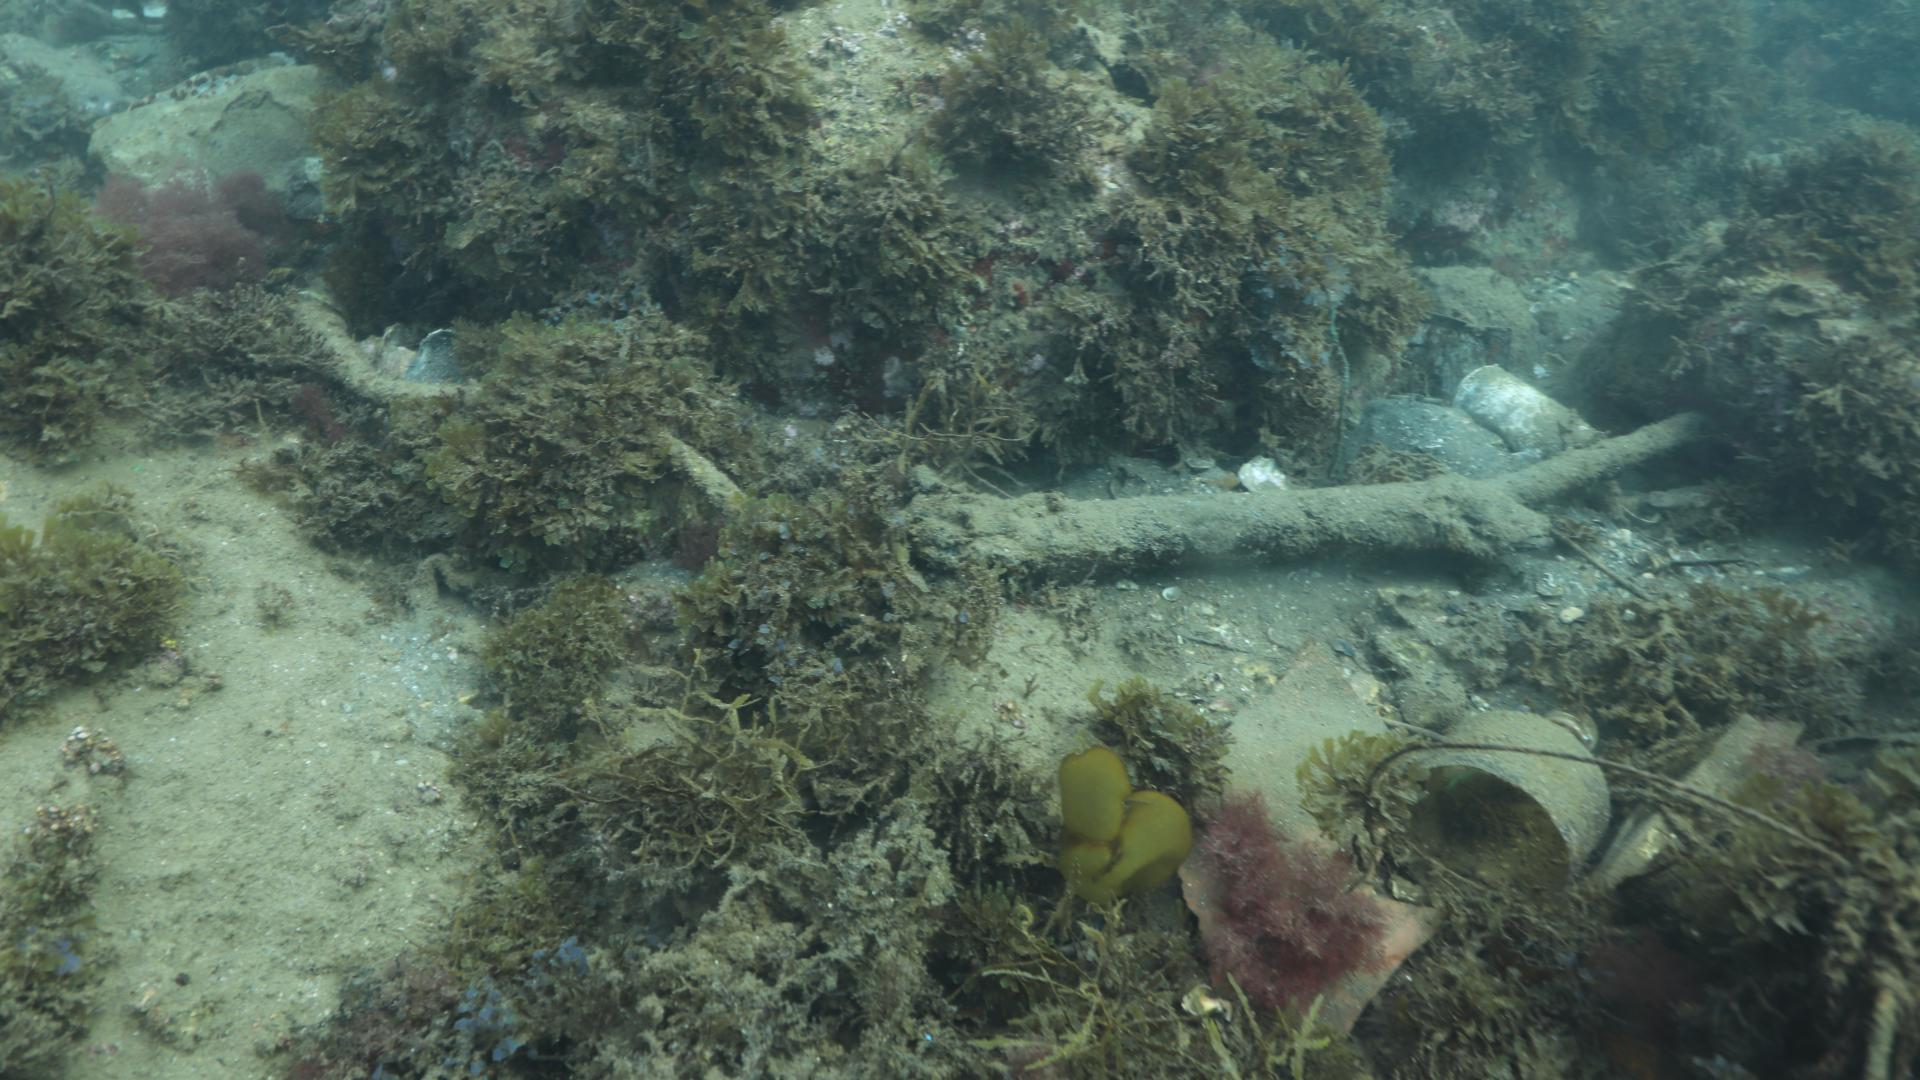rope: (287, 293, 487, 407), (657, 433, 744, 520)
wood: (901, 411, 1693, 574)
